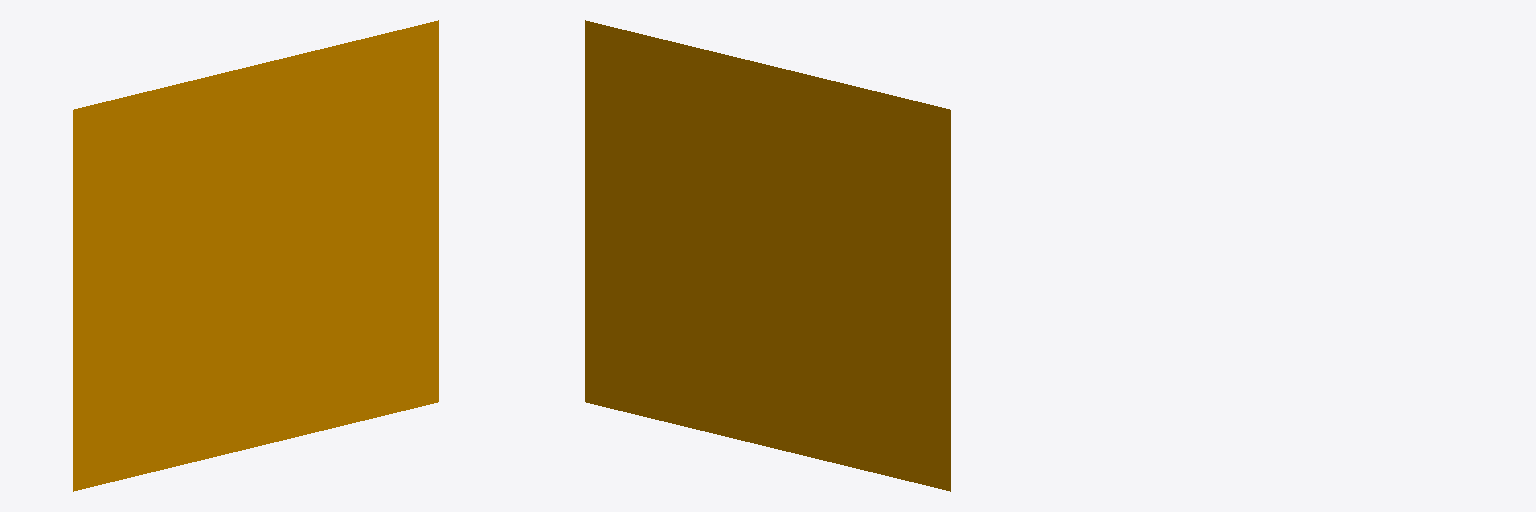
URDF robot description (cloth):
<?xml version="1.0"?>
<robot name="cloth">
    <link name="cloth">
        <visual>
            <geometry>
                <mesh filename="../mesh/cloth.obj"/>
            </geometry>
        </visual>
        <collision>
            <geometry>
                <mesh filename="../mesh/cloth.obj"/>
            </geometry>
            <sdf resolution="256"/>
        </collision>
    </link>
</robot>

--- Render facts (derived) ---
3 views of the same robot in one strip: view 1: azimuth 30°, elevation 25°; view 2: azimuth 150°, elevation 25°; view 3: azimuth 270°, elevation 25° (orthographic).
Robot: cloth — 1 links, 0 joints (none); root link cloth; default pose: every joint at zero.
Links seen in each view (by area): view 1: cloth; view 2: cloth; view 3: none.
Link boxes in pixels (x1=…): cloth: x1=73, y1=20, x2=438, y2=491; cloth: x1=585, y1=20, x2=950, y2=491.
Size in the robot's own frame: 1 by 0 by 1 metres.
1 mesh visuals loaded from 1 distinct referenced files (1 OBJ).